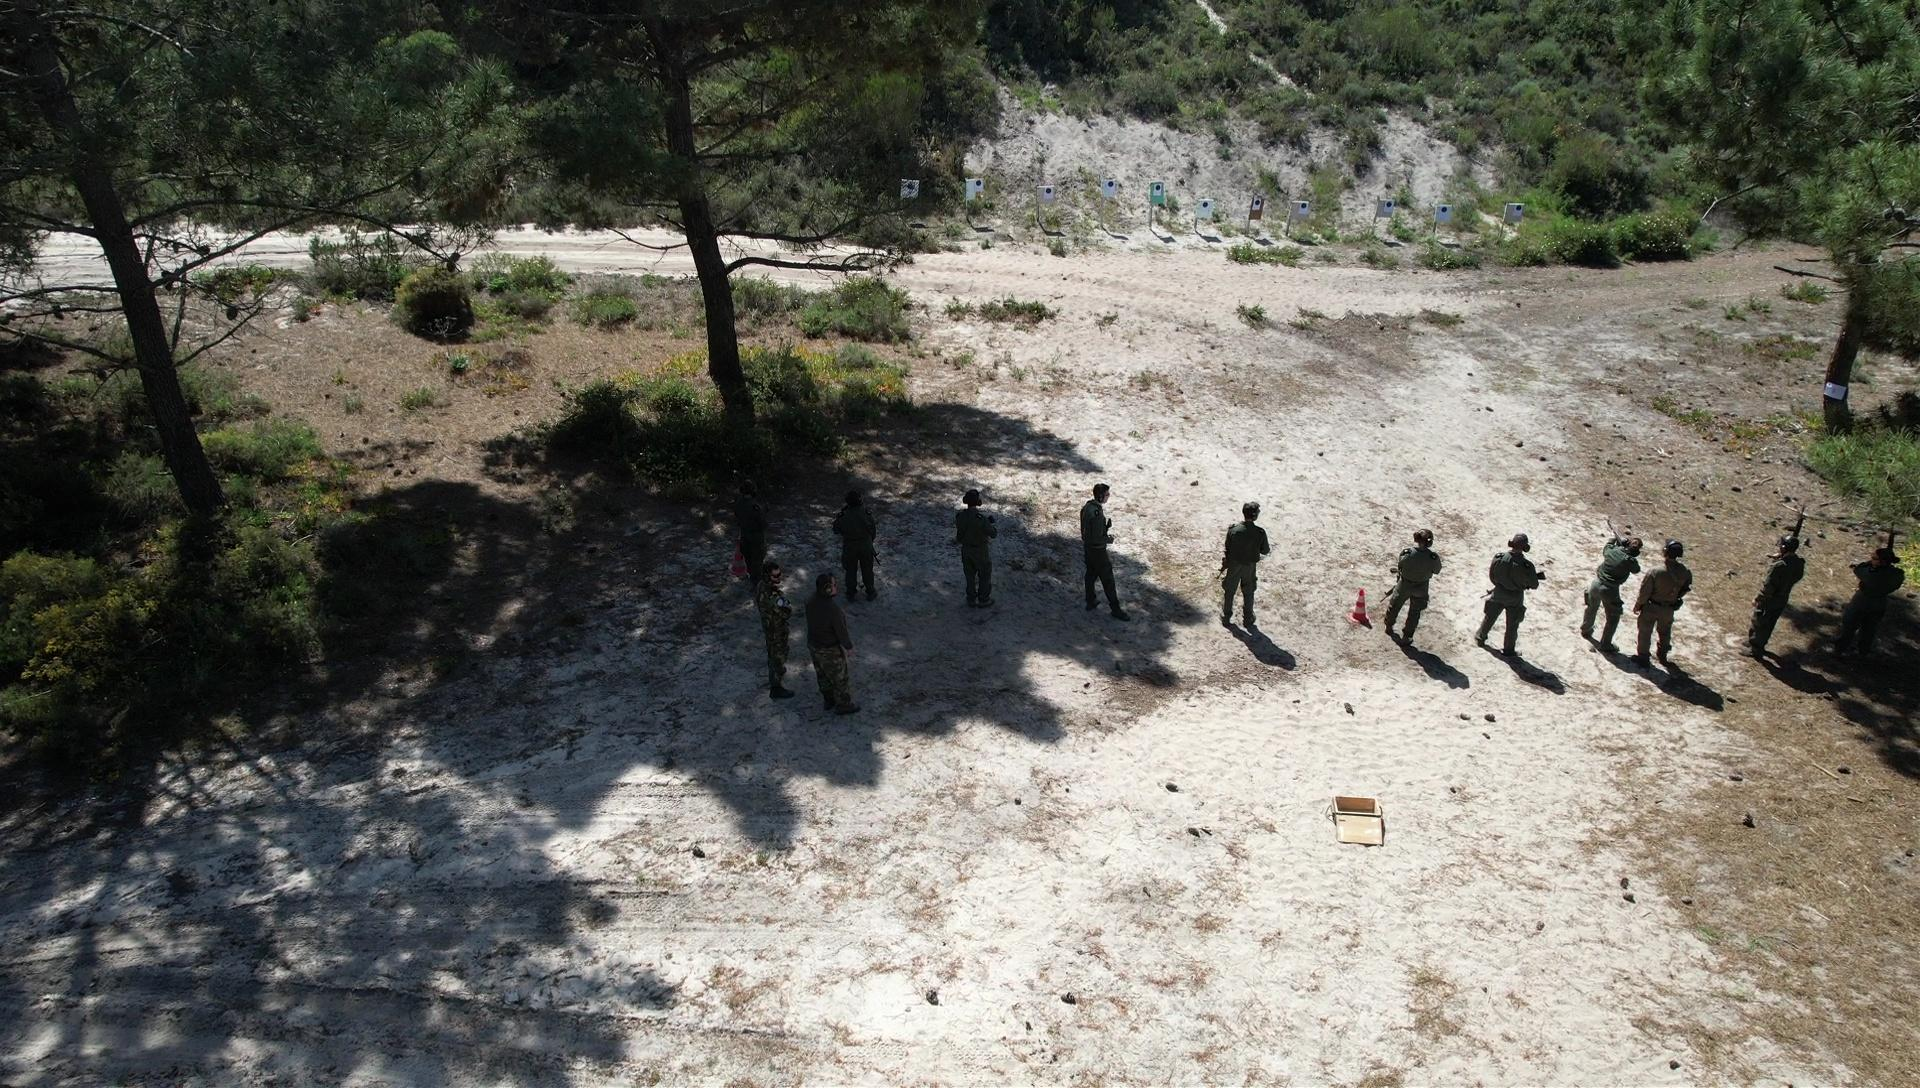Soldier: (1753, 521, 1815, 699), (1629, 547, 1697, 688), (1208, 499, 1276, 638), (1067, 491, 1133, 633), (800, 576, 864, 716), (1482, 528, 1542, 661), (1385, 530, 1443, 659), (1849, 528, 1905, 658), (824, 491, 890, 599), (754, 572, 808, 702), (948, 495, 1004, 613), (1586, 522, 1634, 661), (727, 497, 779, 589)
